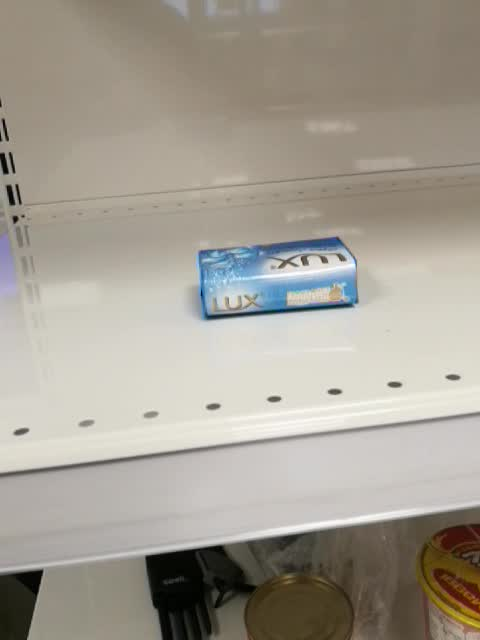soap: (196, 233, 360, 320)
